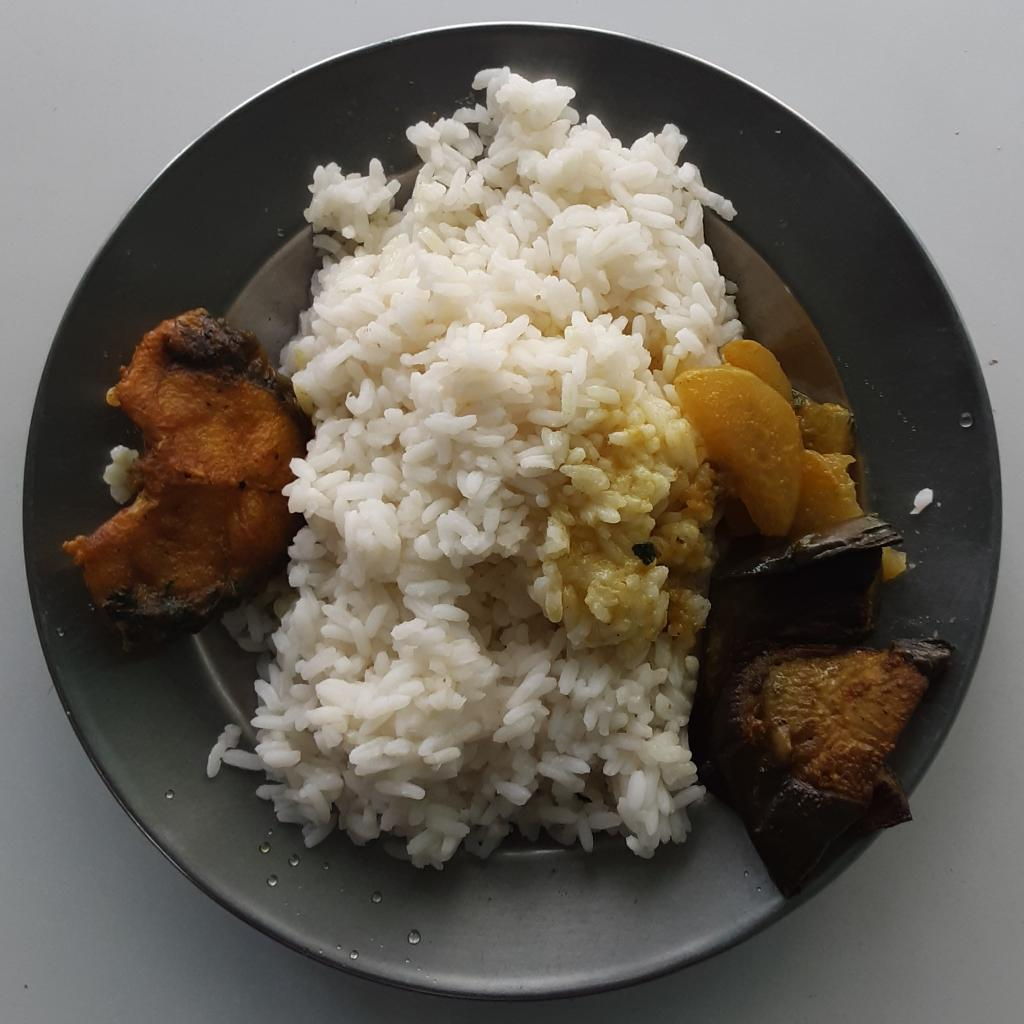begun-vaji: (699, 503, 949, 894)
dundol: (679, 332, 863, 552)
fish: (58, 307, 304, 644)
rice: (206, 59, 740, 868)
